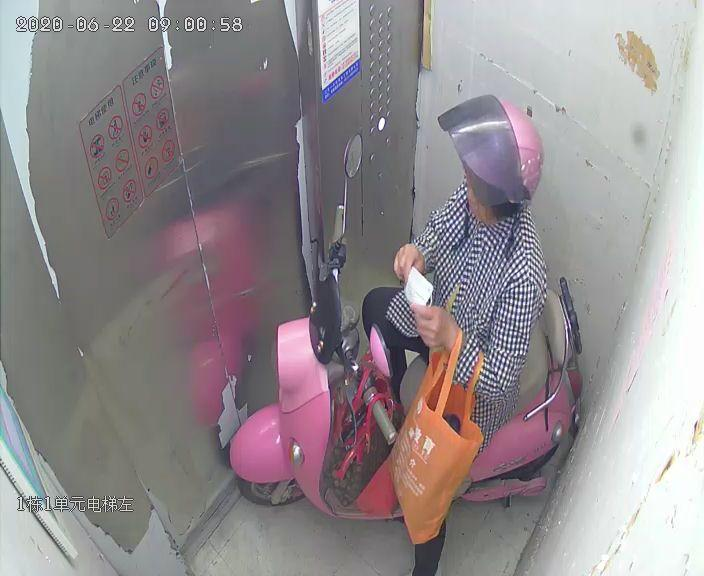Electric-bicycle: (226, 133, 579, 506)
